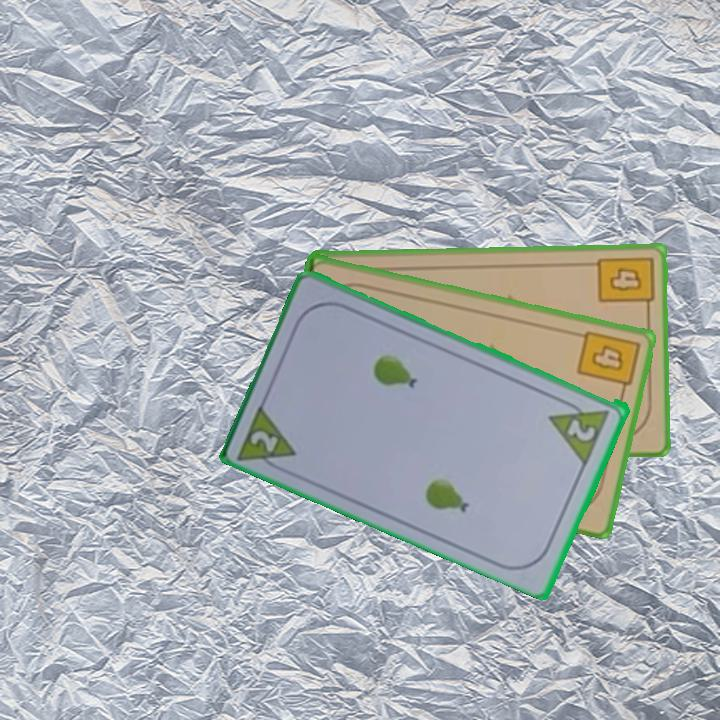2p: (546, 393, 614, 466), (247, 426, 282, 455)
4b: (573, 327, 643, 398), (594, 253, 656, 315)
